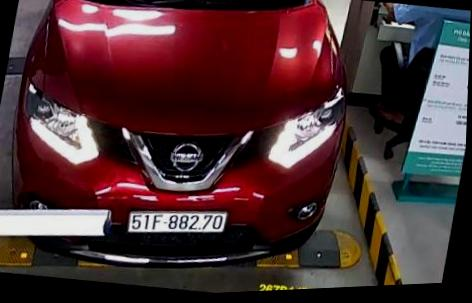License_Plate: (123, 200, 235, 245)
